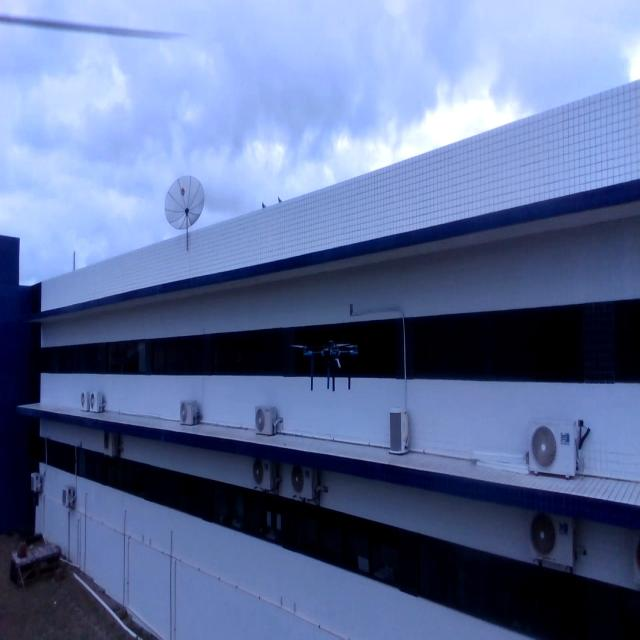-uav-: (284, 319, 364, 400)
